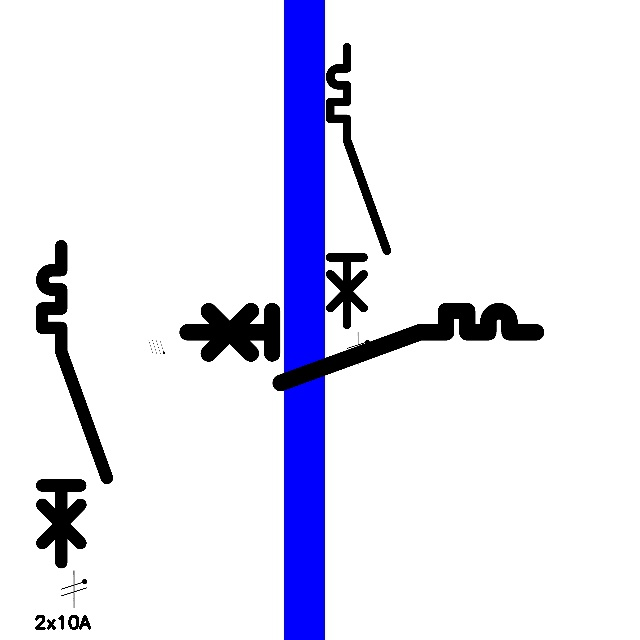interruptor_termomagnetico: (178, 302, 545, 391), (34, 238, 115, 570), (323, 40, 394, 332)
